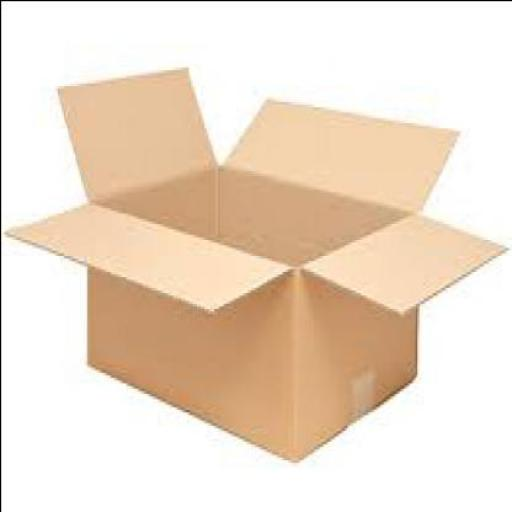cardboard: (1, 62, 506, 456)
